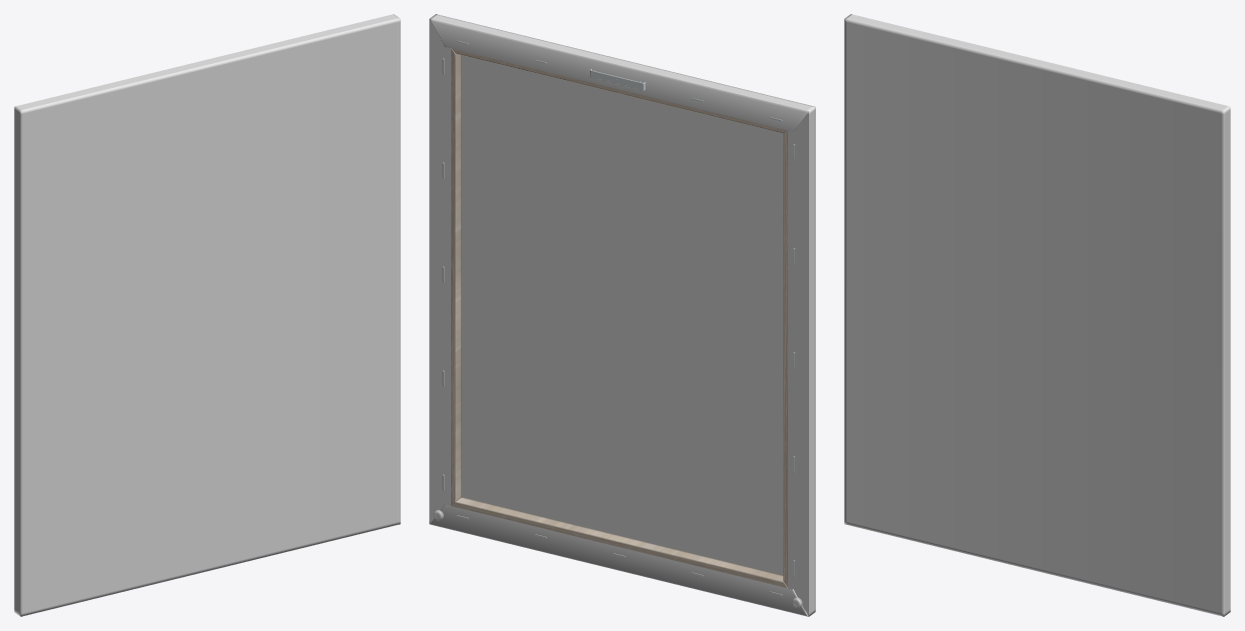
Rendered from portrait.glb.
3 renders of one model, left to right at view 1: azimuth 30°, elevation 25°; view 2: azimuth 150°, elevation 25°; view 3: azimuth 330°, elevation 25°, orthographic.
Visible parts, largest first — view 1: Canvas.001; view 2: Canvas White.001, Canvas Frame.001, Canvas.001, Staples.001; view 3: Canvas.001.
Boxes of the visible parts, x1,y1,x2,y2 form: Canvas.001: (14,14,400,616); Canvas White.001: (429,19,808,616); Canvas Frame.001: (451,48,787,588); Canvas.001: (429,14,815,616); Staples.001: (442,40,795,595); Canvas.001: (844,14,1230,616).
Bounding box in the file's own units: 11.04 × 14.05 × 0.451.
5 materials, 1 textured.
